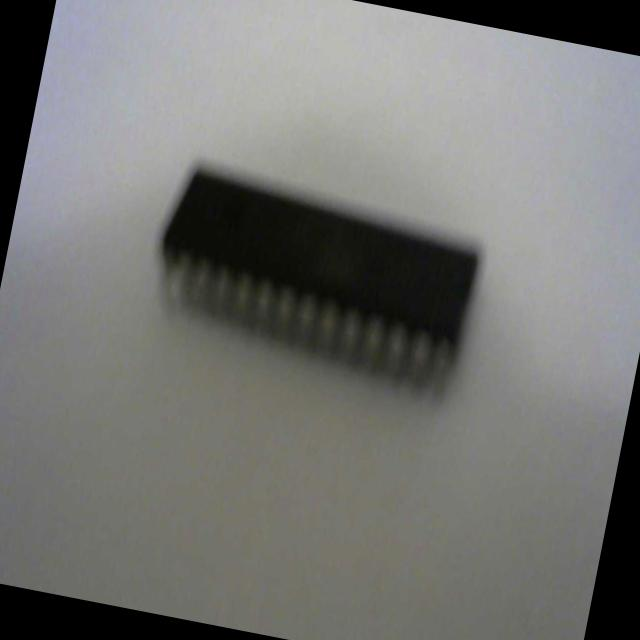atmega: (138, 152, 492, 406)
